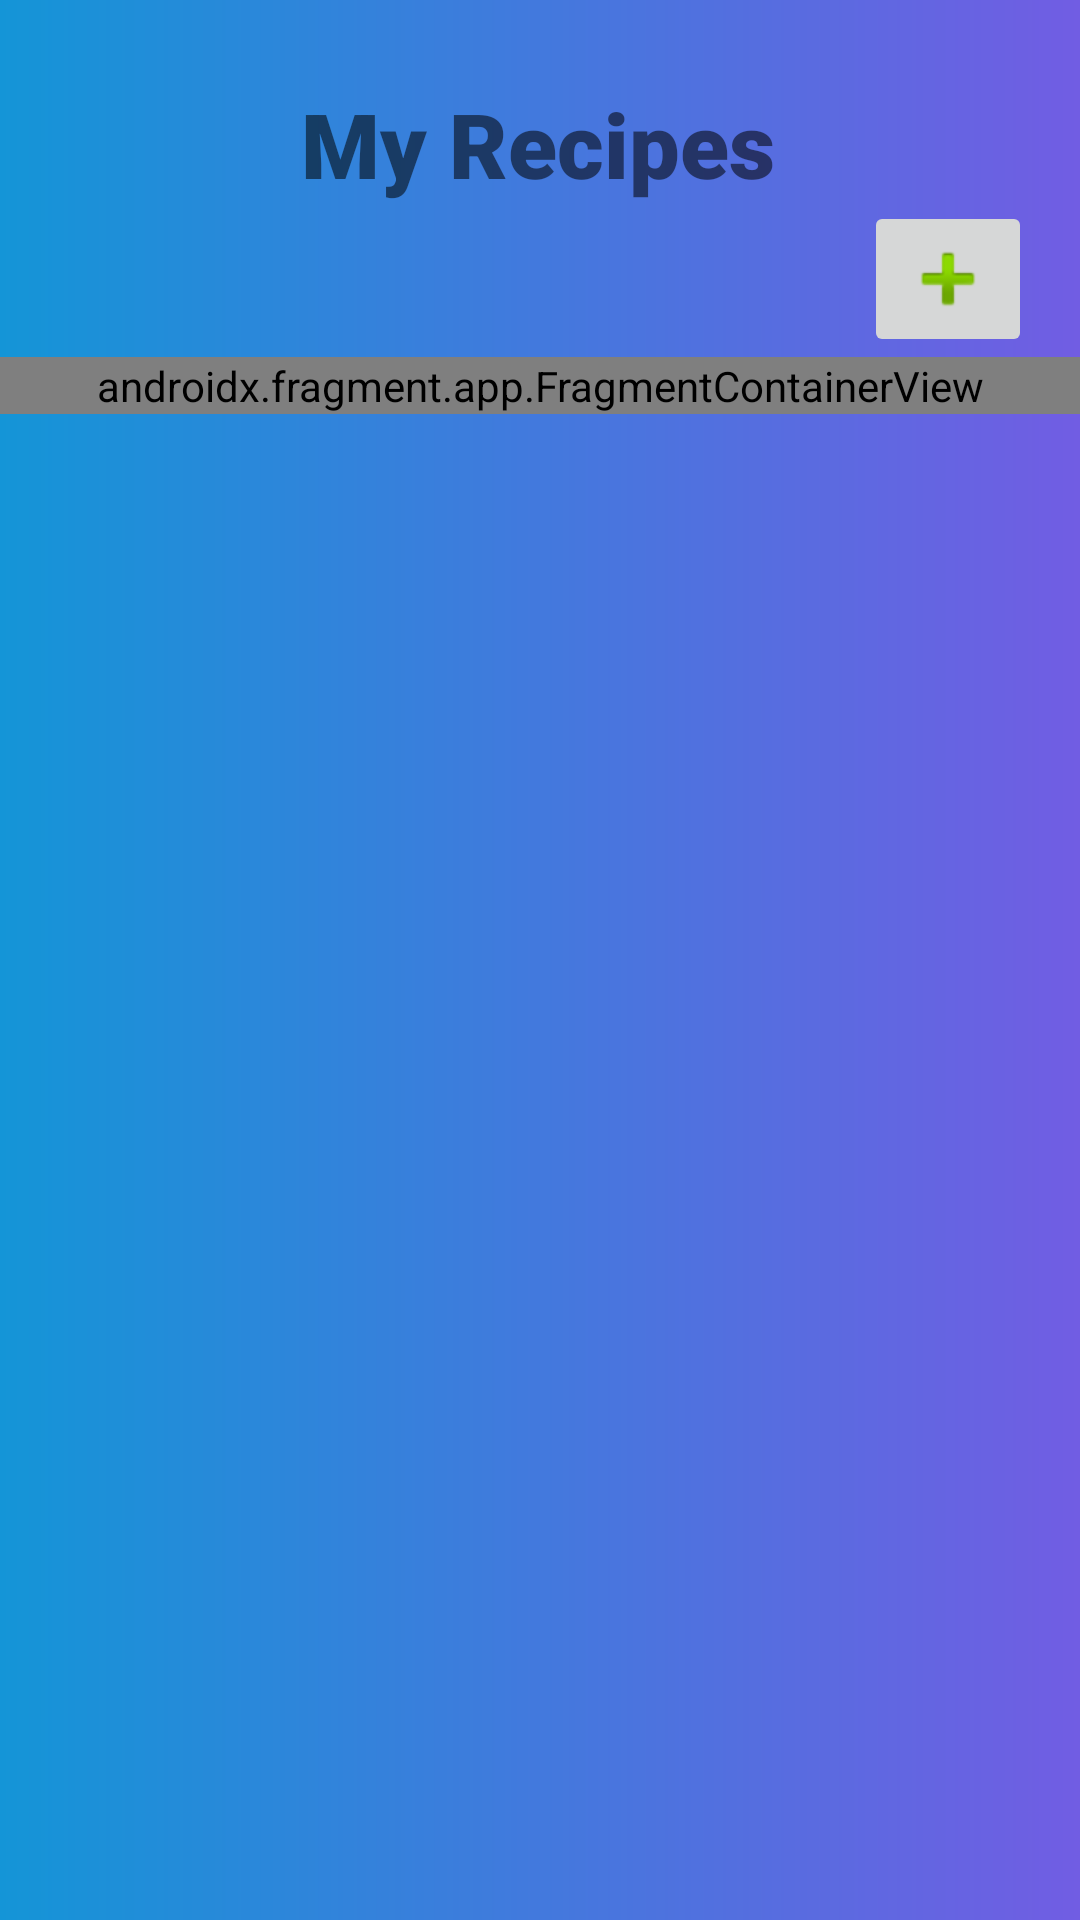

Screen size 1080px×1920px. Icon name, then its box in pixels as (x1, y1, x2, y2):
add: (876, 219, 1020, 339)
